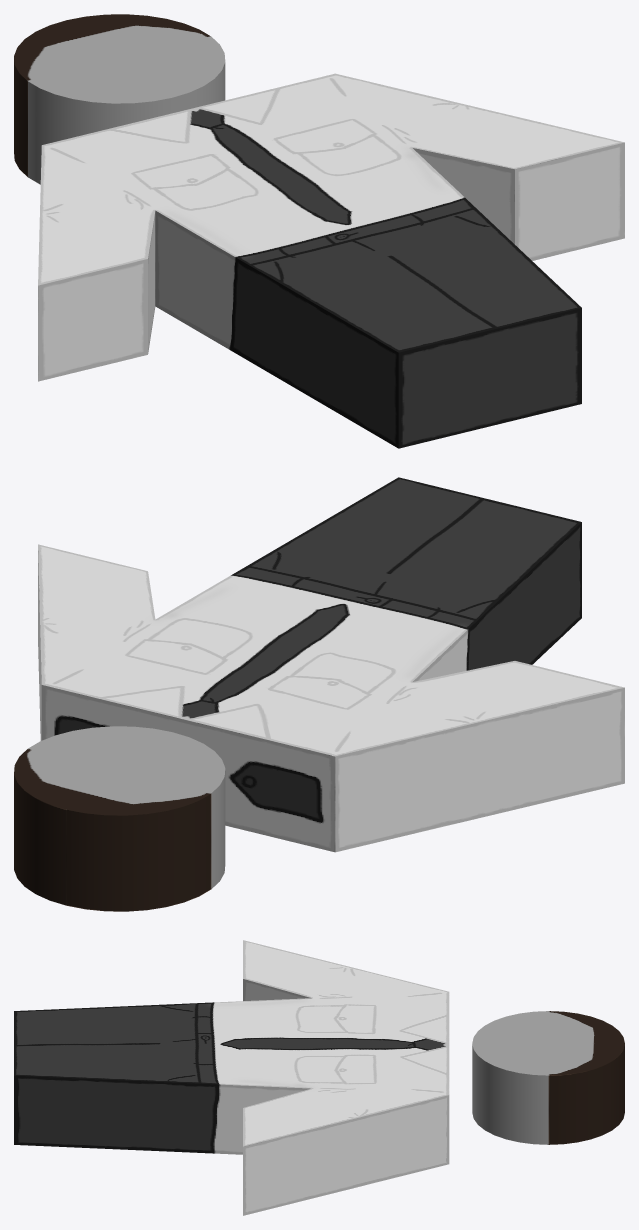
File: agent model.fbx
3 views of the same model, one above another, from view 1: azimuth 30°, elevation 25°; view 2: azimuth 150°, elevation 25°; view 3: azimuth 270°, elevation 25° (orthographic). The views are drawn at different scales.
Parts seen in each view (by area): view 1: Circle, Circle.001; view 2: Circle, Circle.001; view 3: Circle, Circle.001.
Part boxes in pixels (x1,y1,x2,y2): Circle: (38,73,624,448); Circle.001: (14,14,225,184); Circle: (38,477,624,852); Circle.001: (14,726,225,911); Circle: (14,940,449,1215); Circle.001: (472,1011,624,1144).
Bounding box in the file's own units: 640 × 100 × 800.
1 material, 1 textured.
